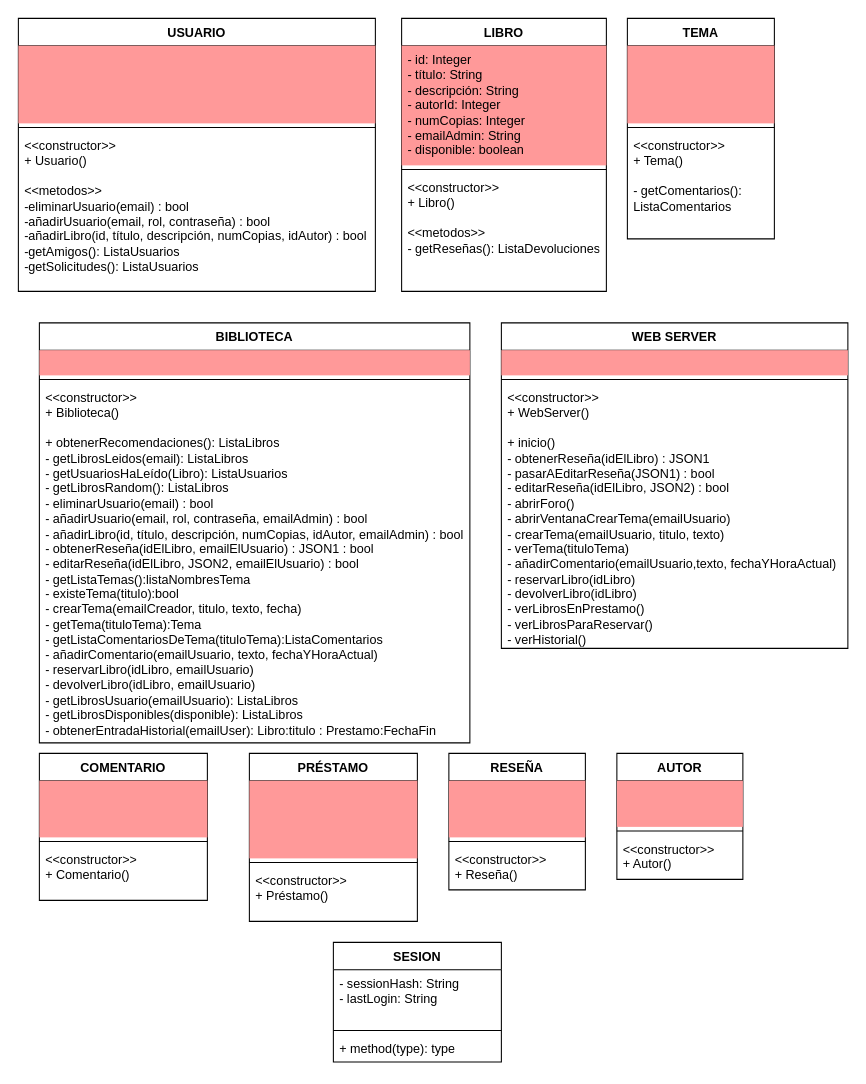
Image size: 866x1084. Some labels were removed from this diagram. Here are the shapes that lost their labels. From the top down, the centre of each, then its label:
At (x=196, y=84): "- email : String - rol: boolean - contraseña : String - emailAdmin : String".
At (x=700, y=84): "- título: String - descripción: String - emailCreador:String - fechaCreado: Date".
At (x=123, y=808): "- emailUser: String - fecha: Date - mensaje: String".
At (x=333, y=819): "- emailUser: String - idLibro: Integer - fechaInicio: Date - fechaFin: Date".
At (x=516, y=808): "- emailUser: String - reseña: String - valoracion : float".
At (x=679, y=803): "- id: Integer - nombre: String".
